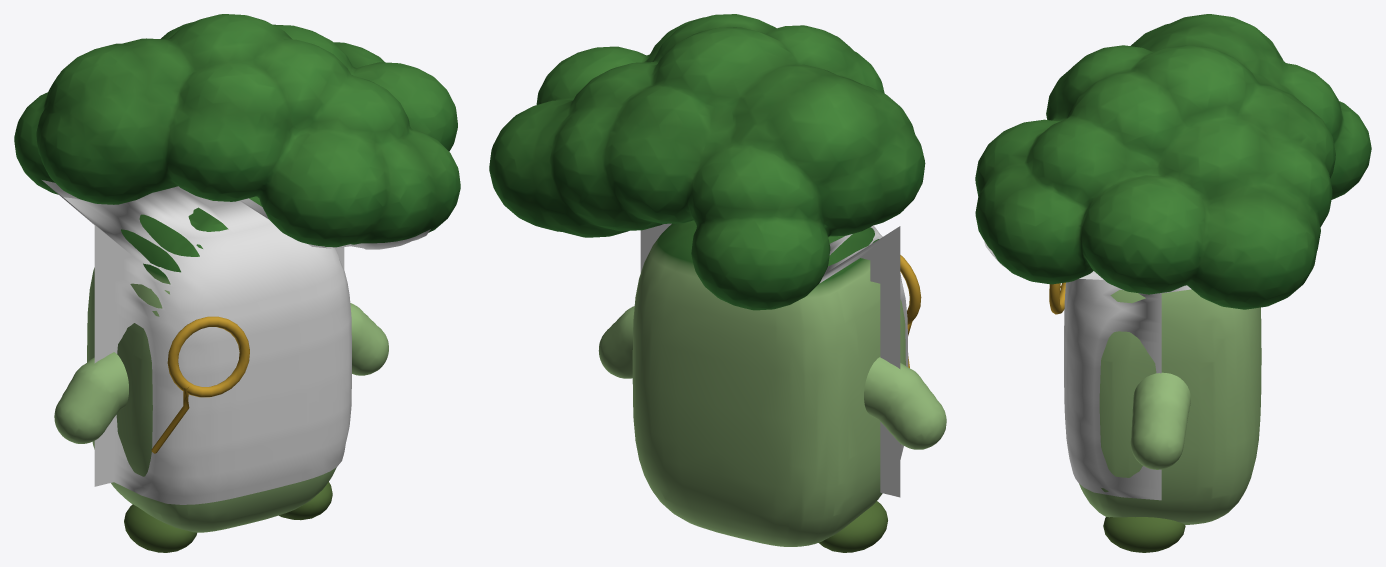
The model's file is folk2_floret.glb.
3 views of the same model, side by side, from view 1: azimuth 30°, elevation 25°; view 2: azimuth 150°, elevation 25°; view 3: azimuth 270°, elevation 25° (orthographic). The views are drawn at different scales.
Visible parts, largest first — view 1: floret_body, floret_face, floret_arm_l, floret_foot_l, floret_arm_r, floret_foot_r; view 2: floret_body, floret_face, floret_arm_l, floret_foot_l, floret_arm_r; view 3: floret_body, floret_face, floret_arm_r, floret_foot_r.
Part boxes in pixels (left/top/right/bottom): floret_body: left=14, top=14, right=460, bottom=532; floret_face: left=42, top=180, right=430, bottom=504; floret_arm_l: left=54, top=352, right=128, bottom=443; floret_foot_l: left=124, top=504, right=196, bottom=552; floret_arm_r: left=350, top=303, right=388, bottom=375; floret_foot_r: left=279, top=482, right=332, bottom=520; floret_body: left=489, top=14, right=925, bottom=546; floret_face: left=640, top=223, right=908, bottom=497; floret_arm_l: left=864, top=357, right=946, bottom=449; floret_foot_l: left=818, top=501, right=887, bottom=552; floret_arm_r: left=598, top=306, right=634, bottom=378; floret_body: left=975, top=14, right=1371, bottom=524; floret_face: left=984, top=241, right=1191, bottom=500; floret_arm_r: left=1130, top=372, right=1190, bottom=469; floret_foot_r: left=1103, top=517, right=1185, bottom=552.
Bounding box in the file's own units: 0.8748 × 1.05 × 0.7952.
